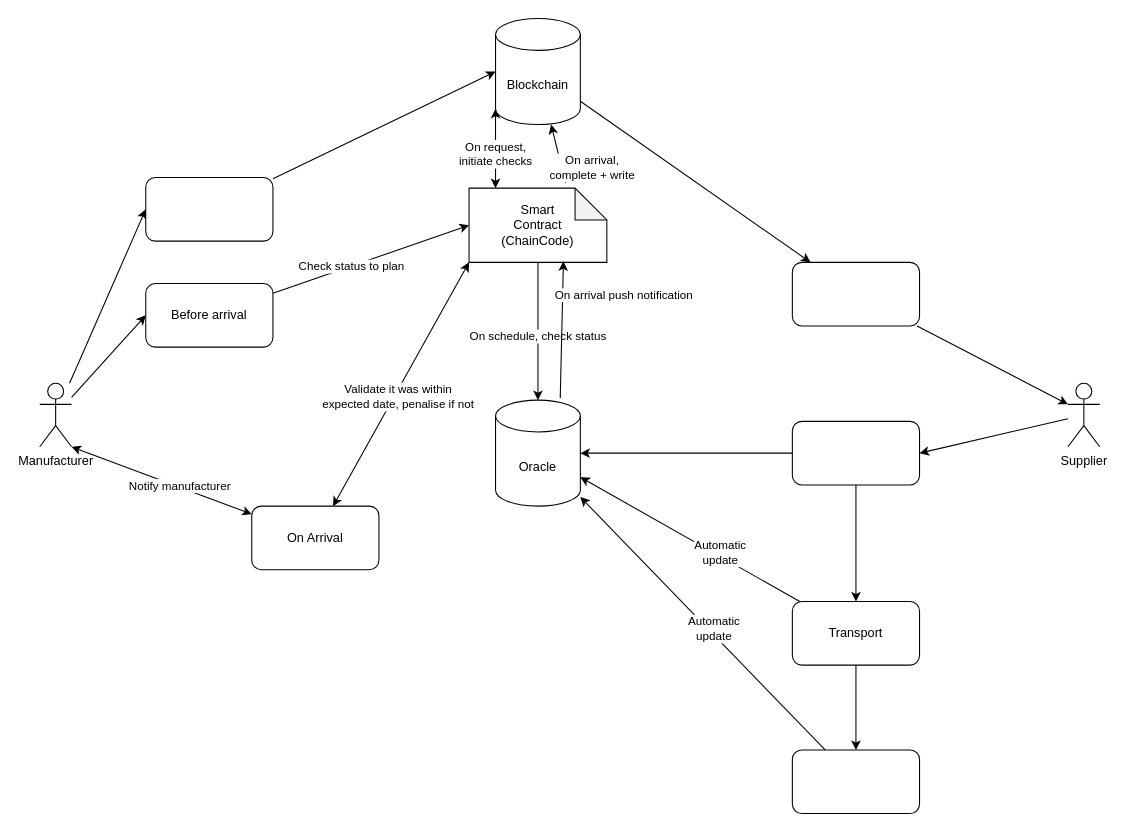
The diagram is 1126 pixels wide and 832 high, and some of its shapes have lost their labels. Here are the shapes that lost their labels. From the top down, the centre of each, then its label:
At [209,208]: "Request for parts".
At [855,293]: "Receive Request".
At [855,452]: "Ship parts".
At [855,781]: "Arrive at warehouse".
